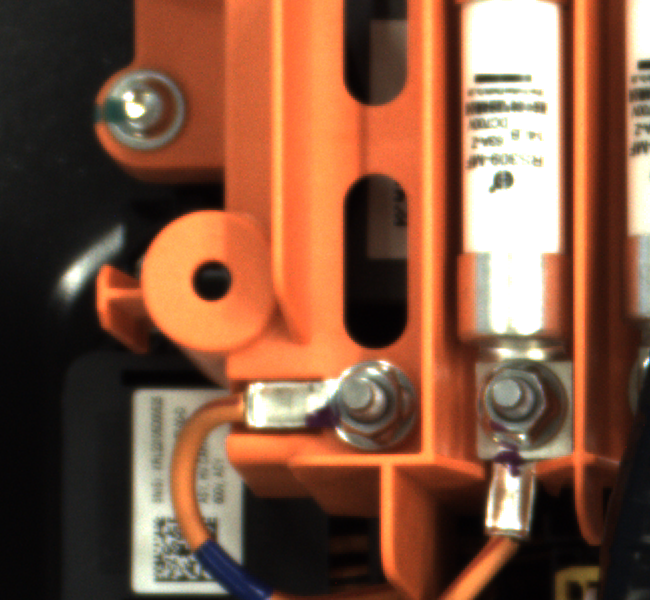screw_m: (94, 61, 193, 145)
screw_s: (469, 355, 587, 470), (309, 354, 418, 454)
